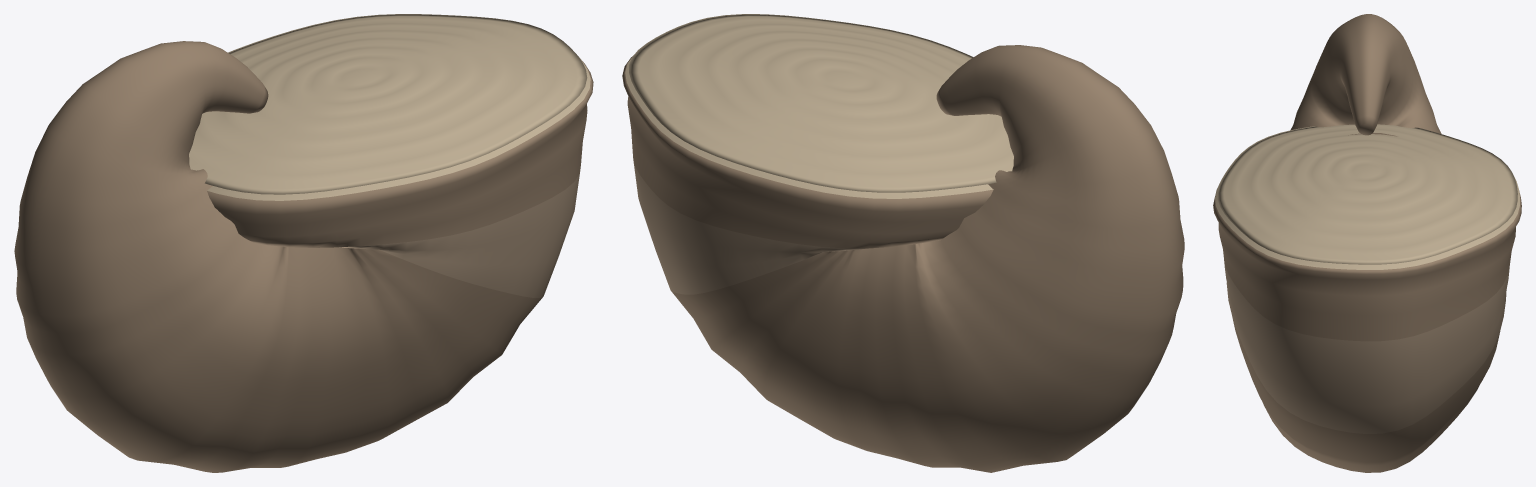
The model's file is gryphaea.glb.
3 views of the same model, side by side, from view 1: azimuth 30°, elevation 25°; view 2: azimuth 150°, elevation 25°; view 3: azimuth 270°, elevation 25° (orthographic). The views are drawn at different scales.
Visible parts, largest first — view 1: Deep hooked lower valve, Flatter upper right lid; view 2: Deep hooked lower valve, Flatter upper right lid; view 3: Deep hooked lower valve, Flatter upper right lid.
Part boxes in pixels (bbox=[...]): Deep hooked lower valve: bbox=[14, 41, 593, 472]; Flatter upper right lid: bbox=[189, 14, 587, 194]; Deep hooked lower valve: bbox=[622, 45, 1184, 472]; Flatter upper right lid: bbox=[629, 14, 1013, 192]; Deep hooked lower valve: bbox=[1213, 14, 1521, 472]; Flatter upper right lid: bbox=[1217, 124, 1517, 264].
Bounding box in the file's own units: 0.09 × 0.0692 × 0.0524.
